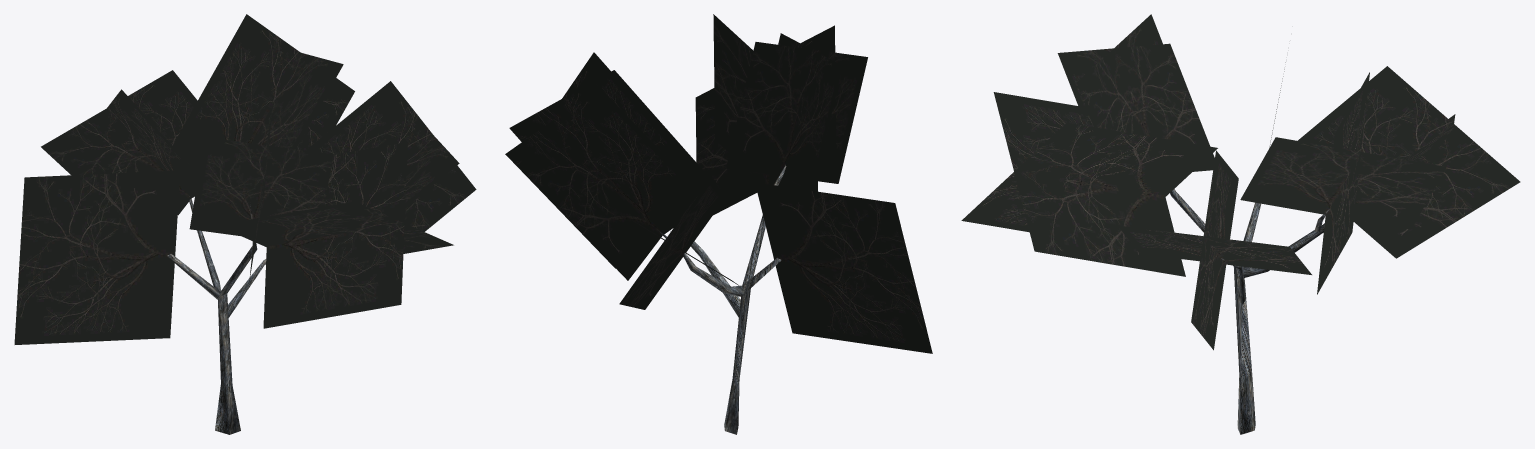
Rendered from decd_scorched_tallbirch_l2.fbx.
3 views of the same model, side by side, from view 1: azimuth 30°, elevation 25°; view 2: azimuth 150°, elevation 25°; view 3: azimuth 270°, elevation 25° (orthographic). The views are drawn at different scales.
Visible parts, largest first — view 1: mesh_node; view 2: mesh_node; view 3: mesh_node.
Part boxes in pixels (x1,y1,x2,y2): mesh_node: (14, 14, 476, 434); mesh_node: (505, 14, 932, 434); mesh_node: (961, 14, 1520, 434).
Bounding box in the file's own units: 66.69 × 53.29 × 67.86.
